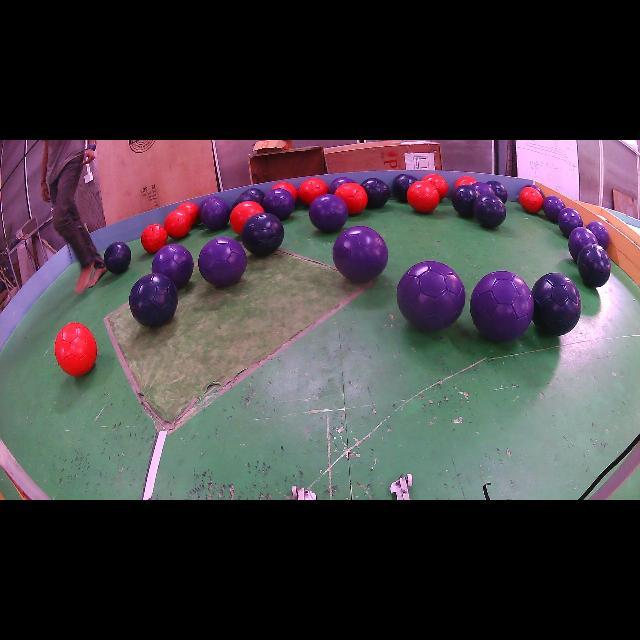B: (532, 272, 581, 335), (129, 272, 178, 328), (241, 212, 284, 256), (472, 194, 506, 229), (569, 228, 598, 262), (451, 185, 479, 218), (361, 178, 390, 209), (104, 241, 131, 274), (558, 208, 584, 238), (392, 174, 418, 201), (586, 221, 610, 249), (488, 180, 508, 204), (231, 195, 258, 209), (242, 188, 265, 203)
P: (396, 261, 465, 330), (470, 271, 534, 342), (332, 226, 389, 282), (198, 236, 248, 286), (151, 244, 194, 289), (309, 194, 349, 232), (578, 244, 611, 288), (262, 189, 295, 220), (201, 199, 230, 230), (542, 195, 565, 222), (198, 196, 221, 221), (329, 178, 355, 193), (471, 182, 495, 195)
R: (55, 322, 96, 376), (230, 201, 264, 234), (335, 182, 368, 214), (406, 181, 440, 212), (141, 224, 168, 254), (299, 178, 329, 205), (164, 210, 191, 239), (519, 186, 544, 214), (422, 174, 449, 199), (271, 181, 298, 202), (178, 202, 199, 226), (455, 176, 478, 187)
